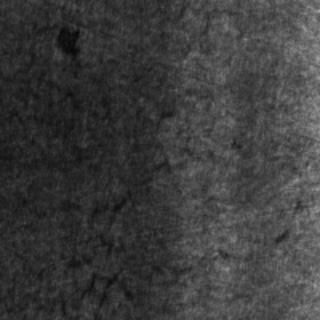crazing: (1, 192, 196, 316), (1, 52, 178, 184)
